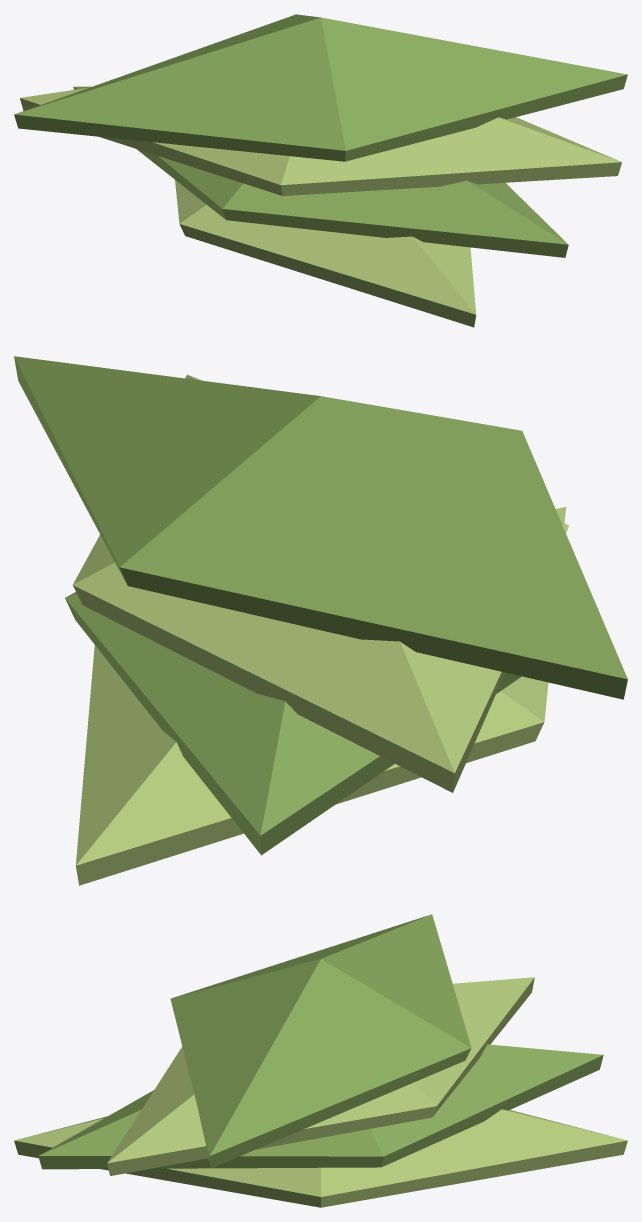
File: CC_ResourceLeaf.fbx
The picture shows the model from 3 angles, top to bottom: view 1: azimuth 30°, elevation 25°; view 2: azimuth 150°, elevation 25°; view 3: azimuth 270°, elevation 25°; orthographic projection. The views are drawn at different scales.
Parts seen in each view (by area): view 1: Leaf.003, Leaf.002, Leaf.001, Leaf; view 2: Leaf.003, Leaf.002, Leaf.001, Leaf; view 3: Leaf.003, Leaf, Leaf.001, Leaf.002.
Boxes of the visible parts, box(x1,y1,x2,y2) form: Leaf.003: box(14, 14, 627, 161); Leaf.002: box(20, 87, 621, 195); Leaf.001: box(73, 86, 568, 257); Leaf: box(175, 180, 476, 327); Leaf.003: box(14, 356, 627, 699); Leaf.002: box(73, 374, 568, 792); Leaf.001: box(65, 592, 521, 855); Leaf: box(75, 507, 565, 885); Leaf.003: box(170, 914, 471, 1168); Leaf: box(14, 1109, 627, 1207); Leaf.001: box(38, 1044, 603, 1169); Leaf.002: box(107, 977, 534, 1175).
Size of the model in its own units: 0.8854 by 0.3341 by 0.95.
